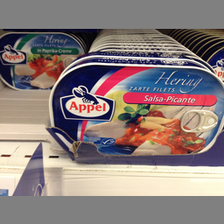fish: (48, 59, 224, 156), (1, 31, 85, 91)
